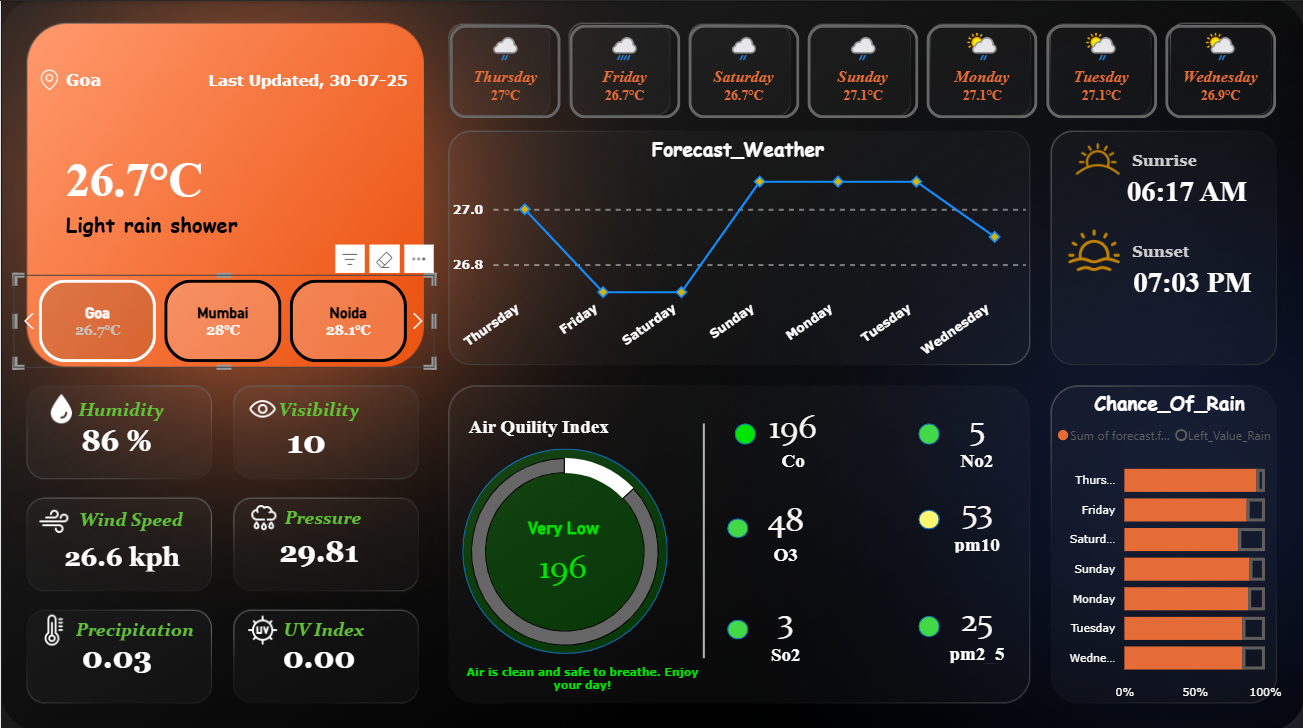

Layout of this report page (visuals, bound fields, positions):
{"tool":"powerbi","page":{"name":"Page 1","canvas":[1280,720],"ordinal":0},"visuals":[{"type":"shape","box":[452.8,439.1,201.7,201.7],"z":0},{"type":"advancedSlicerVisual","fields":{"Values":["Locations.location.name"]},"box":[12.7,269,412.7,91.5],"z":1000},{"type":"shape","box":[32.4,69,322.5,123.9],"z":2000},{"type":"shape","box":[22.5,69,322.5,149.3],"z":3000},{"type":"shape","box":[63.4,133.8,240.8,84.5],"z":4000},{"type":"shape","box":[63.4,198.6,240.8,39.4],"z":5000},{"type":"shape","box":[63.4,62,109.9,29.6],"z":6000},{"type":"shape","box":[204.2,57.7,204.2,39.4],"z":7000},{"type":"image","box":[32.4,62,31,29.6],"z":8000},{"type":"shape","box":[76.1,385.3,117.8,31.9],"z":9000},{"type":"shape","box":[272.4,385.3,105.5,31.9],"z":10000},{"type":"shape","box":[60.1,495.7,135,27],"z":11000},{"type":"shape","box":[278.5,490.8,117.8,31.9],"z":12000},{"type":"shape","box":[277.3,602.5,117.8,29.4],"z":13000},{"type":"shape","box":[73.3,600.7,152.3,31],"z":14000},{"type":"image","box":[236.8,597.5,40.5,40.5],"z":15000},{"type":"image","box":[39.3,380.4,40.5,40.5],"z":16000},{"type":"image","box":[236.8,380.4,40.5,40.5],"z":17000},{"type":"image","box":[31.9,490.8,40.5,40.5],"z":18000},{"type":"image","box":[238,487.1,40.5,40.5],"z":19000},{"type":"image","box":[27,597.5,50.3,40.5],"z":20000},{"type":"cardVisual","fields":{"Data":["All_Measures.Humidity_Per"]},"box":[57.8,384.9,111.4,87.4],"z":21000},{"type":"cardVisual","fields":{"Data":["Sum(Current_Data.current.vis_km)"]},"box":[244.3,385.6,111.1,86.4],"z":22000},{"type":"cardVisual","fields":{"Data":["All_Measures.Wind_Speed"]},"box":[29.6,510.4,179.1,62],"z":23000},{"type":"cardVisual","fields":{"Data":["Sum(Current_Data.current.pressure_in)"]},"box":[238.3,503.4,148.1,69.1],"z":24000},{"type":"cardVisual","fields":{"Data":["Sum(Current_Data.current.uv)"]},"box":[246.8,606.3,131.1,69.1],"z":25000},{"type":"cardVisual","fields":{"Data":["Sum(Current_Data.current.precip_in)"]},"box":[47.9,603.5,132.5,74.7],"z":26000},{"type":"advancedSlicerVisual","fields":{"Values":["Forcast_Day_Data.Days_Name"]},"box":[435.7,18.3,826.3,102.9],"z":27000},{"type":"lineChart","title":"Forecast_Weather","fields":{"Category":["Forecast_Day_Data.Days_Name"],"Y":["Sum(Forecast_Day_Data.forecast.forecastday.day.avgtemp_c)"]},"box":[435.7,131.4,575.7,228.6],"z":28000},{"type":"shape","box":[1110,135.7,118.6,40],"z":29000},{"type":"shape","box":[1110,225.7,122.9,40],"z":30000},{"type":"cardVisual","fields":{"Data":["Min(Forecast_Day_Data.Sunrise_Date)"]},"box":[1088.6,148.6,185.7,70],"z":31000},{"type":"cardVisual","fields":{"Data":["Min(Forecast_Day_Data.Sunset_Date)"]},"box":[1094.3,238.6,175.7,70],"z":32000},{"type":"image","box":[1042.9,121.4,67,67],"z":33000},{"type":"image","box":[1042.9,214.3,60,60],"z":34000},{"type":"hundredPercentStackedBarChart","title":"Chance_Of_Rain","fields":{"Category":["Forecast_Day_Data.Days_Name"],"Y":["Sum(Forecast_Day_Data.forecast.forecastday.day.daily_chance_of_rain)","All_Measures.Left_Value_Rain"]},"box":[1031.4,380,230,314.3],"z":35000},{"type":"shape","box":[720.6,415,20.7,20.7],"z":36000},{"type":"shape","box":[713.2,508,20.7,19.2],"z":37000},{"type":"shape","box":[713.2,606.9,20.7,19.2],"z":38000},{"type":"shape","box":[900.8,415,20.7,20.7],"z":39000},{"type":"shape","box":[900.8,499.1,20.7,19.2],"z":40000},{"type":"shape","box":[900.8,604,20.7,20.7],"z":41000},{"type":"shape","box":[458.6,397.1,151.4,40],"z":42000},{"type":"shape","box":[658.6,415,62,230.4],"z":43000},{"type":"card","fields":{"Values":["Sum(Current_Data.current.air_quality.co)"]},"box":[720.6,388.4,115.2,75.3],"z":44000},{"type":"card","fields":{"Values":["Sum(Current_Data.current.air_quality.o3)"]},"box":[713.2,481.4,115.2,75.3],"z":45000},{"type":"card","fields":{"Values":["Sum(Current_Data.current.air_quality.so2)"]},"box":[713.2,578.9,115.2,75.3],"z":46000},{"type":"card","fields":{"Values":["Sum(Current_Data.current.air_quality.no2)"]},"box":[900.8,388.4,115.2,75.3],"z":47000},{"type":"card","fields":{"Values":["Sum(Current_Data.current.air_quality.pm10)"]},"box":[900.8,471.1,115.2,75.3],"z":48000},{"type":"card","fields":{"Values":["Sum(Current_Data.current.air_quality.pm2_5)"]},"box":[900.8,577.4,115.2,76.8],"z":49000},{"type":"shape","box":[451.1,645.5,238.4,39.5],"z":50000},{"type":"card","fields":{"Values":["Sum(Current_Data.current.air_quality.co)"]},"box":[494,506.3,115.3,75.5],"z":51000},{"type":"donutChart","fields":{"Y":["Sum(Current_Data.current.air_quality.co)","All_Measures.Left_Value_Co"]},"box":[382.8,421.3,341.7,240.1],"z":52000}]}

Visuals, with their boxes on the page's 1280x720 design canvas (x1, y1, x2, y2). These are canvas units, not pixel positions in the 1303x728 screenshot, which may show the page scaled, cropped or inside an application window:
shape: [left=453, top=439, right=654, bottom=641]
advancedSlicerVisual - Locations.location.name: [left=13, top=269, right=425, bottom=360]
shape: [left=32, top=69, right=355, bottom=193]
shape: [left=22, top=69, right=345, bottom=218]
shape: [left=63, top=134, right=304, bottom=218]
shape: [left=63, top=199, right=304, bottom=238]
shape: [left=63, top=62, right=173, bottom=92]
shape: [left=204, top=58, right=408, bottom=97]
image: [left=32, top=62, right=63, bottom=92]
shape: [left=76, top=385, right=194, bottom=417]
shape: [left=272, top=385, right=378, bottom=417]
shape: [left=60, top=496, right=195, bottom=523]
shape: [left=278, top=491, right=396, bottom=523]
shape: [left=277, top=602, right=395, bottom=632]
shape: [left=73, top=601, right=226, bottom=632]
image: [left=237, top=598, right=277, bottom=638]
image: [left=39, top=380, right=80, bottom=421]
image: [left=237, top=380, right=277, bottom=421]
image: [left=32, top=491, right=72, bottom=531]
image: [left=238, top=487, right=278, bottom=528]
image: [left=27, top=598, right=77, bottom=638]
cardVisual - All_Measures.Humidity_Per: [left=58, top=385, right=169, bottom=472]
cardVisual - Sum(Current_Data.current.vis_km): [left=244, top=386, right=355, bottom=472]
cardVisual - All_Measures.Wind_Speed: [left=30, top=510, right=209, bottom=572]
cardVisual - Sum(Current_Data.current.pressure_in): [left=238, top=503, right=386, bottom=572]
cardVisual - Sum(Current_Data.current.uv): [left=247, top=606, right=378, bottom=675]
cardVisual - Sum(Current_Data.current.precip_in): [left=48, top=604, right=180, bottom=678]
advancedSlicerVisual - Forcast_Day_Data.Days_Name: [left=436, top=18, right=1262, bottom=121]
"Forecast_Weather" lineChart: [left=436, top=131, right=1011, bottom=360]
shape: [left=1110, top=136, right=1229, bottom=176]
shape: [left=1110, top=226, right=1233, bottom=266]
cardVisual - Min(Forecast_Day_Data.Sunrise_Date): [left=1089, top=149, right=1274, bottom=219]
cardVisual - Min(Forecast_Day_Data.Sunset_Date): [left=1094, top=239, right=1270, bottom=309]
image: [left=1043, top=121, right=1110, bottom=188]
image: [left=1043, top=214, right=1103, bottom=274]
"Chance_Of_Rain" hundredPercentStackedBarChart: [left=1031, top=380, right=1261, bottom=694]
shape: [left=721, top=415, right=741, bottom=436]
shape: [left=713, top=508, right=734, bottom=527]
shape: [left=713, top=607, right=734, bottom=626]
shape: [left=901, top=415, right=922, bottom=436]
shape: [left=901, top=499, right=922, bottom=518]
shape: [left=901, top=604, right=922, bottom=625]
shape: [left=459, top=397, right=610, bottom=437]
shape: [left=659, top=415, right=721, bottom=645]
card - Sum(Current_Data.current.air_quality.co): [left=721, top=388, right=836, bottom=464]
card - Sum(Current_Data.current.air_quality.o3): [left=713, top=481, right=828, bottom=557]
card - Sum(Current_Data.current.air_quality.so2): [left=713, top=579, right=828, bottom=654]
card - Sum(Current_Data.current.air_quality.no2): [left=901, top=388, right=1016, bottom=464]
card - Sum(Current_Data.current.air_quality.pm10): [left=901, top=471, right=1016, bottom=546]
card - Sum(Current_Data.current.air_quality.pm2_5): [left=901, top=577, right=1016, bottom=654]
shape: [left=451, top=646, right=690, bottom=685]
card - Sum(Current_Data.current.air_quality.co): [left=494, top=506, right=609, bottom=582]
donutChart - Sum(Current_Data.current.air_quality.co) x All_Measures.Left_Value_Co: [left=383, top=421, right=724, bottom=661]
